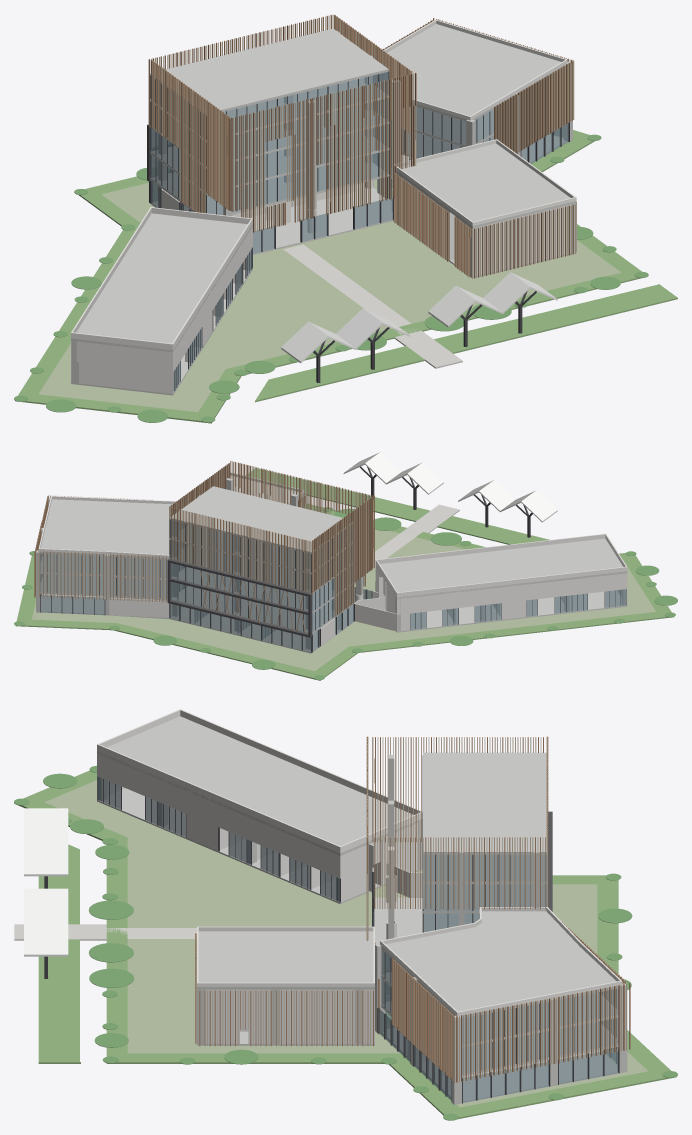
Rendered from cip.glb.
The picture shows the model from 3 angles, top to bottom: view 1: azimuth 30°, elevation 25°; view 2: azimuth 150°, elevation 25°; view 3: azimuth 270°, elevation 25°; orthographic projection. The views are drawn at different scales.
Visible parts, largest first — view 1: 0SOVRRkJLEVOw0J6uStaSz, 2U3r1IolH5c9fAiFe50WcI, 3xeT_W_8LDaQVUq$6Wj7K1, 0VgBjm2anF_BHmN4$ILM5c, 3qLPQPImL8Dxd7mRDCZf0z, 3vCdkYh31DzBRHPikC$4d1, 0X9rORVzTApAjQIWXt_BwC, 2dDB9Av0n518ZmZBRse8vu, 0NZBGcULL2rvKhTza0ap$W, 3_ADbEA81EYQsls2xcXv8e, 0JKscMEa11NekJwY0xP3TN, 2KJrIded10_vX_z9qi2$S_ (+27 smaller); view 2: 0SOVRRkJLEVOw0J6uStaSz, 2U3r1IolH5c9fAiFe50WcI, 0VgBjm2anF_BHmN4$ILM5c, 0X9rORVzTApAjQIWXt_BwC, 3qLPQPImL8Dxd7mRDCZf0z, 3xeT_W_8LDaQVUq$6Wj7K1, 15rzvYeJf2PAzNE6dQUrCg, 1v4pTlmDjD7hwPKheRiGkx, 2hWMG$F$H8uRzFTqLPqCD0, 3PT3bARxbAxOKeEATMcTTG, 0RHyggZ8vFygdq9733B$mz, 3fx87iNt55SeFwKvFvG2uh (+32 smaller); view 3: 0SOVRRkJLEVOw0J6uStaSz, 2U3r1IolH5c9fAiFe50WcI, 3qLPQPImL8Dxd7mRDCZf0z, 0VgBjm2anF_BHmN4$ILM5c, 3xeT_W_8LDaQVUq$6Wj7K1, 0X9rORVzTApAjQIWXt_BwC, 3vCdkYh31DzBRHPikC$4d1, 2dDB9Av0n518ZmZBRse8vu, 3rfCSTCijAKRNFTfgtKxbW, 1ues3c__D54w76ooGYmhlU, 15rzvYeJf2PAzNE6dQUrCg, 2V9JhcPon2$hWu6sTNxZGG (+32 smaller).
Part boxes in pixels (<box>): 0SOVRRkJLEVOw0J6uStaSz: <box>39,134,620,412</box>; 2U3r1IolH5c9fAiFe50WcI: <box>71,213,252,352</box>; 3xeT_W_8LDaQVUq$6Wj7K1: <box>150,28,388,114</box>; 0VgBjm2anF_BHmN4$ILM5c: <box>15,130,642,423</box>; 3qLPQPImL8Dxd7mRDCZf0z: <box>387,24,565,121</box>; 3vCdkYh31DzBRHPikC$4d1: <box>393,143,576,228</box>; 0X9rORVzTApAjQIWXt_BwC: <box>71,207,252,372</box>; 2dDB9Av0n518ZmZBRse8vu: <box>434,284,677,353</box>; 0NZBGcULL2rvKhTza0ap$W: <box>151,182,393,255</box>; 3_ADbEA81EYQsls2xcXv8e: <box>439,204,571,275</box>; 0JKscMEa11NekJwY0xP3TN: <box>255,346,424,402</box>; 2KJrIded10_vX_z9qi2$S_: <box>207,150,387,214</box>; 0SOVRRkJLEVOw0J6uStaSz: <box>32,529,655,671</box>; 2U3r1IolH5c9fAiFe50WcI: <box>375,539,627,599</box>; 0VgBjm2anF_BHmN4$ILM5c: <box>16,503,673,680</box>; 0X9rORVzTApAjQIWXt_BwC: <box>375,533,627,614</box>; 3qLPQPImL8Dxd7mRDCZf0z: <box>40,499,172,559</box>; 3xeT_W_8LDaQVUq$6Wj7K1: <box>170,486,352,553</box>; 15rzvYeJf2PAzNE6dQUrCg: <box>383,590,627,632</box>; 1v4pTlmDjD7hwPKheRiGkx: <box>171,582,308,632</box>; 2hWMG$F$H8uRzFTqLPqCD0: <box>170,519,310,571</box>; 3PT3bARxbAxOKeEATMcTTG: <box>170,540,310,592</box>; 0RHyggZ8vFygdq9733B$mz: <box>171,586,354,633</box>; 3fx87iNt55SeFwKvFvG2uh: <box>171,563,308,610</box>; 0SOVRRkJLEVOw0J6uStaSz: <box>45,780,647,1107</box>; 2U3r1IolH5c9fAiFe50WcI: <box>97,717,417,855</box>; 3qLPQPImL8Dxd7mRDCZf0z: <box>381,911,618,1018</box>; 0VgBjm2anF_BHmN4$ILM5c: <box>14,770,676,1119</box>; 3xeT_W_8LDaQVUq$6Wj7K1: <box>423,752,546,854</box>; 0X9rORVzTApAjQIWXt_BwC: <box>97,709,422,878</box>; 3vCdkYh31DzBRHPikC$4d1: <box>198,931,374,989</box>; 2dDB9Av0n518ZmZBRse8vu: <box>38,939,80,1063</box>; 3rfCSTCijAKRNFTfgtKxbW: <box>280,989,354,1043</box>; 1ues3c__D54w76ooGYmhlU: <box>381,1028,618,1103</box>; 15rzvYeJf2PAzNE6dQUrCg: <box>97,788,422,904</box>; 2V9JhcPon2$hWu6sTNxZGG: <box>462,1018,618,1073</box>.
Bounding box in the file's own units: 108 × 21.2 × 78.09.
